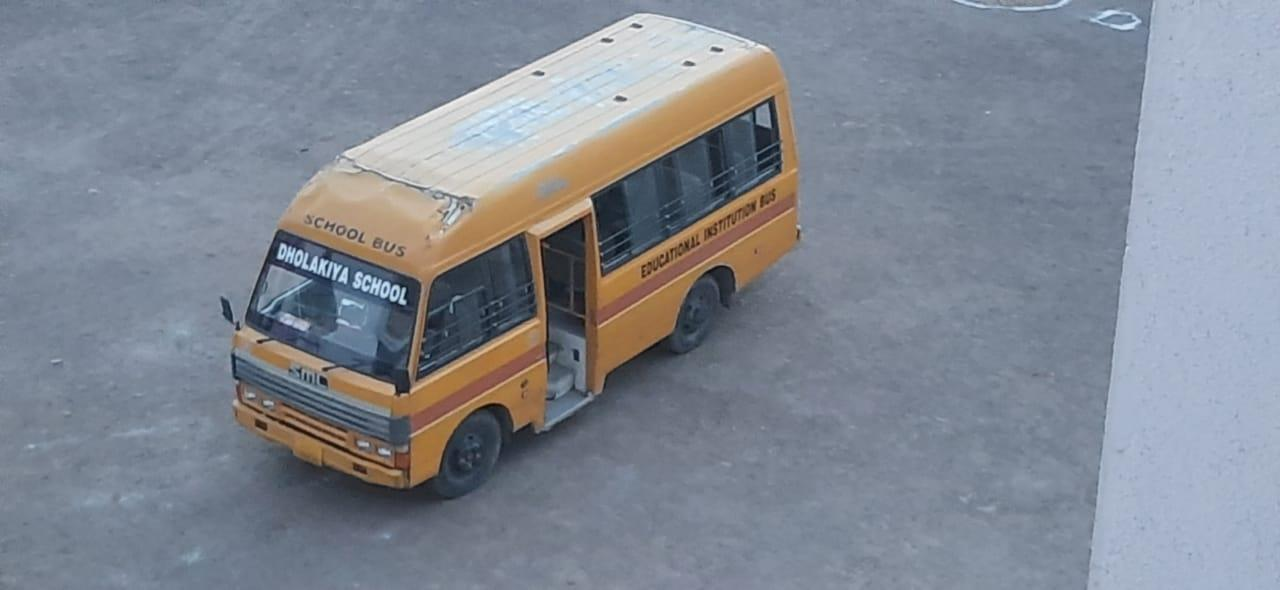Bus: (203, 13, 830, 507)
